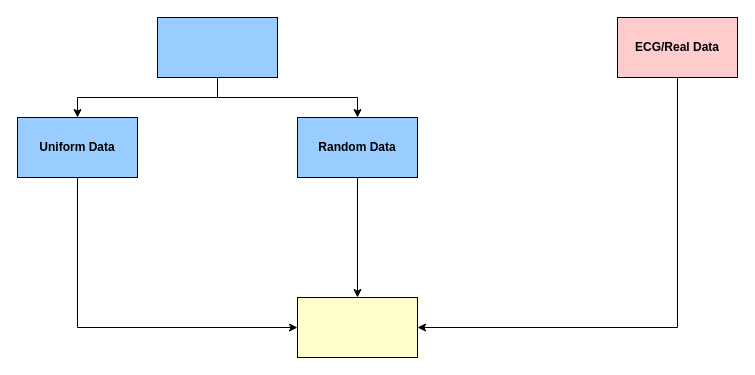
This 755x375 diagram has some shape labels left out. The box of each missing label's shape, as (x1, y1, x2, y2) in pixels:
Artificial Data (AI): (156, 16, 278, 78)
Experiments: (296, 296, 418, 358)
